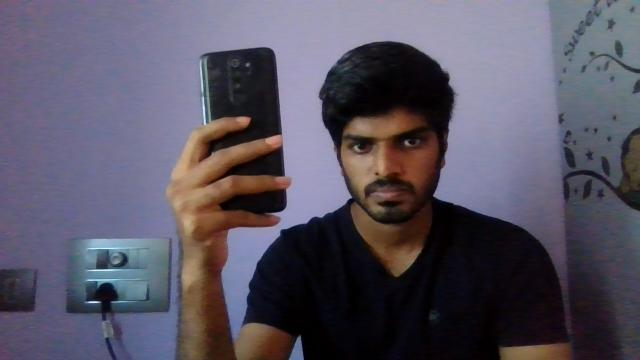PhoneUse: (198, 47, 288, 213)
SafeDriving: (392, 127, 430, 154), (342, 134, 379, 158)
